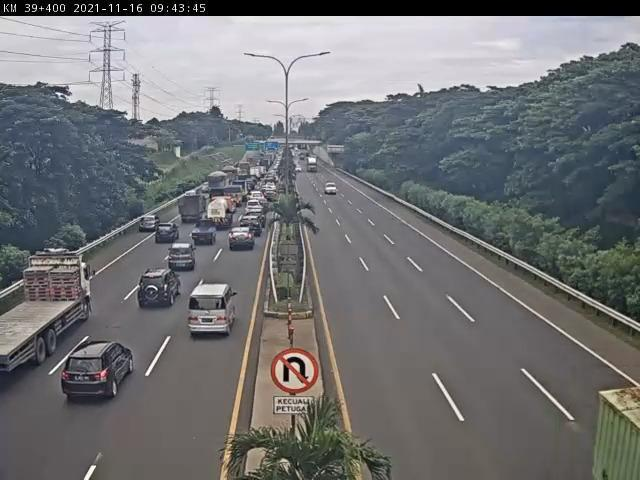car: (63, 342, 136, 401), (190, 284, 237, 338), (139, 268, 181, 307), (169, 245, 198, 274), (230, 228, 257, 255), (191, 222, 217, 248), (153, 224, 179, 246), (241, 217, 263, 237), (138, 217, 161, 234), (247, 210, 267, 226), (247, 200, 265, 214), (249, 193, 265, 202), (296, 166, 303, 173)
truck: (2, 255, 93, 372), (207, 197, 235, 231), (180, 197, 207, 226), (207, 174, 229, 201), (224, 187, 243, 208), (307, 157, 317, 171), (326, 184, 338, 195)
